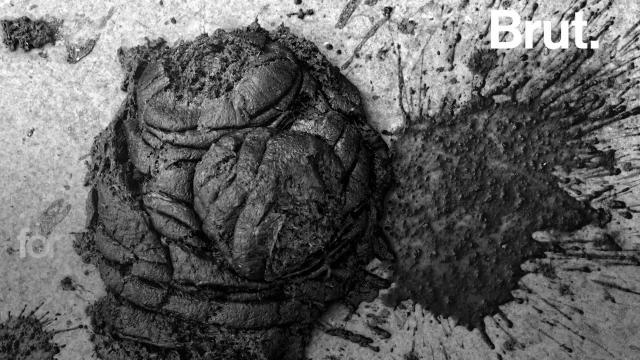spit: (386, 68, 624, 342)
